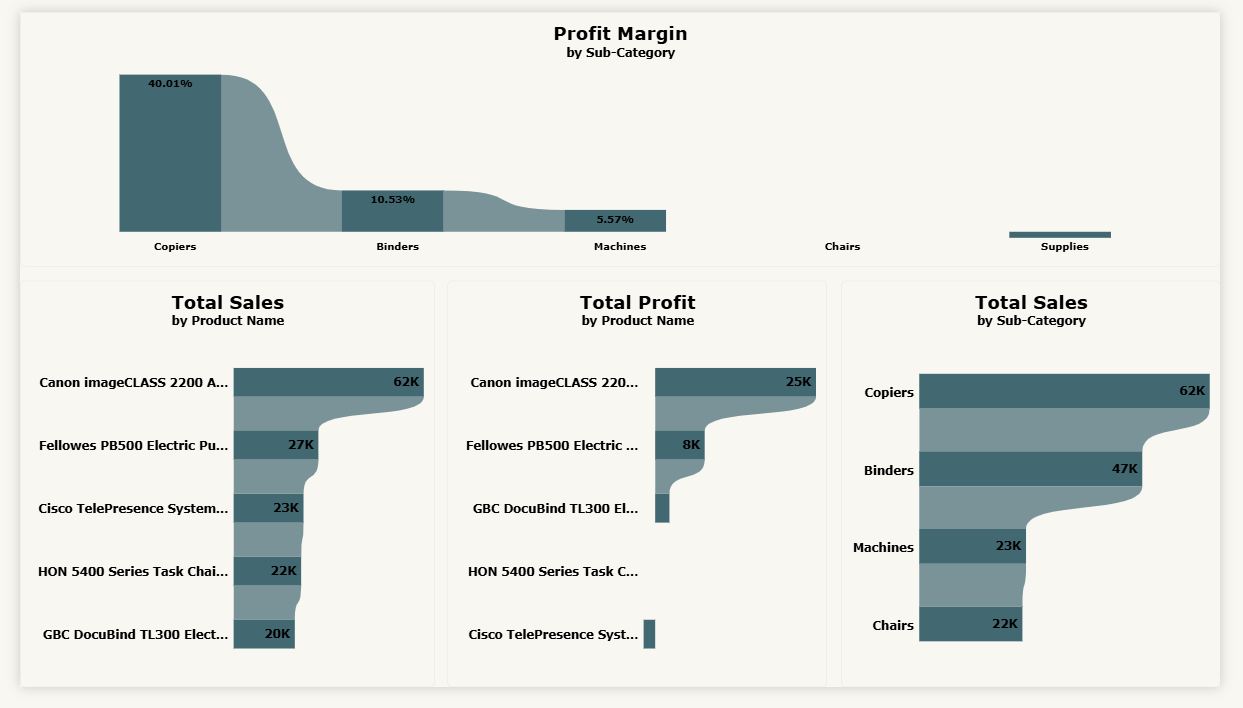

The dashboard page shown, as its layout file describes it:
{"tool":"powerbi","page":{"name":"Product Analysis","canvas":[1920,1080],"ordinal":1},"visuals":[{"type":"barChart","fields":{"Category":["Superstore.Product Name"],"Y":["Measures Table.Total Sales"]},"box":[0,429.2,663.3,650.3],"z":0},{"type":"barChart","fields":{"Category":["Superstore.Product Name"],"Y":["Measures Table.Total Profit"]},"box":[684.9,429.2,606.9,650.3],"z":1000},{"type":"barChart","fields":{"Category":["Superstore.Sub-Category"],"Y":["Measures Table.Total Sales"]},"box":[1313.5,429.2,606.9,650.3],"z":2000},{"type":"columnChart","fields":{"Category":["Superstore.Sub-Category"],"Y":["Measures Table.Profit Margin"]},"box":[0,0,1920.4,407.5],"z":3000}]}

Visuals, with their boxes in screenshot pixels (x1, y1, x2, y2), scaled from the page's 1920x1080 canvas onto the 1243x708 screenshot:
barChart - Superstore.Product Name x Measures Table.Total Sales: 0/281/429/707
barChart - Superstore.Product Name x Measures Table.Total Profit: 443/281/836/707
barChart - Superstore.Sub-Category x Measures Table.Total Sales: 850/281/1242/707
columnChart - Superstore.Sub-Category x Measures Table.Profit Margin: 0/0/1242/267
